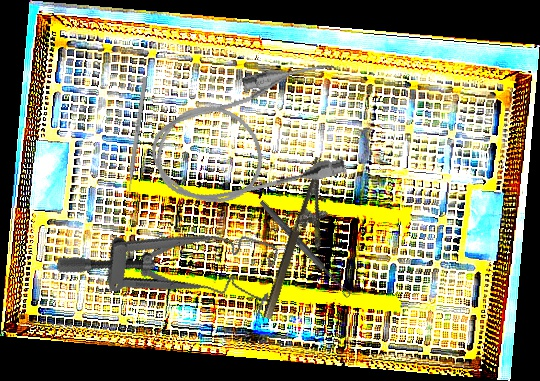Cannula: (138, 54, 361, 220)
Needle Holder: (260, 157, 348, 327)
Pusher: (124, 76, 148, 207)
Speculum: (54, 185, 284, 336)
Surgical Spoon: (257, 198, 353, 300)
